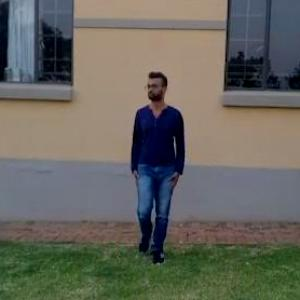follow: (121, 58, 192, 284)
